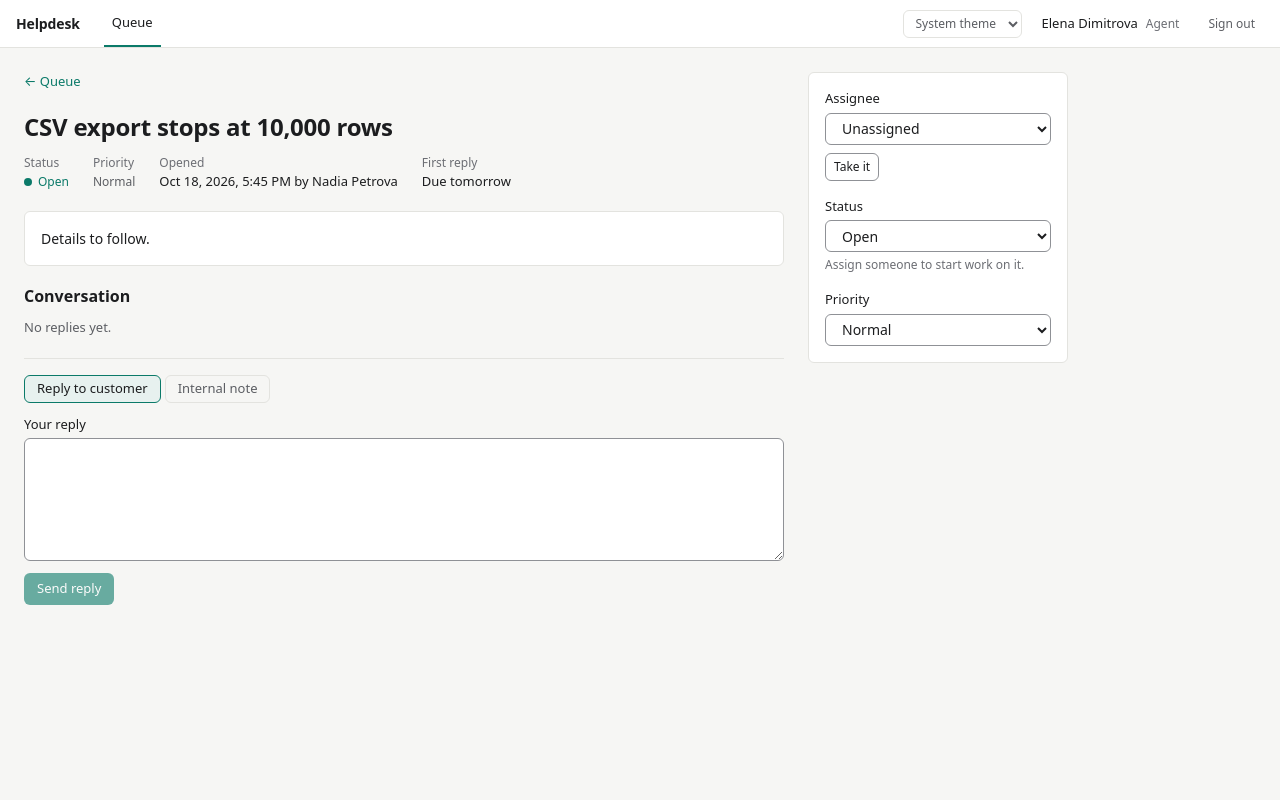
Test: a ticket, worked by staff › writes internal notes that the customer never sees
The image size is (1280, 800).
Expected: the element named "Ticket properties" is shown, [808,72,1068,362]
Click the radio button labelled "Internal note" at (218, 388), box [165,374,270,402]
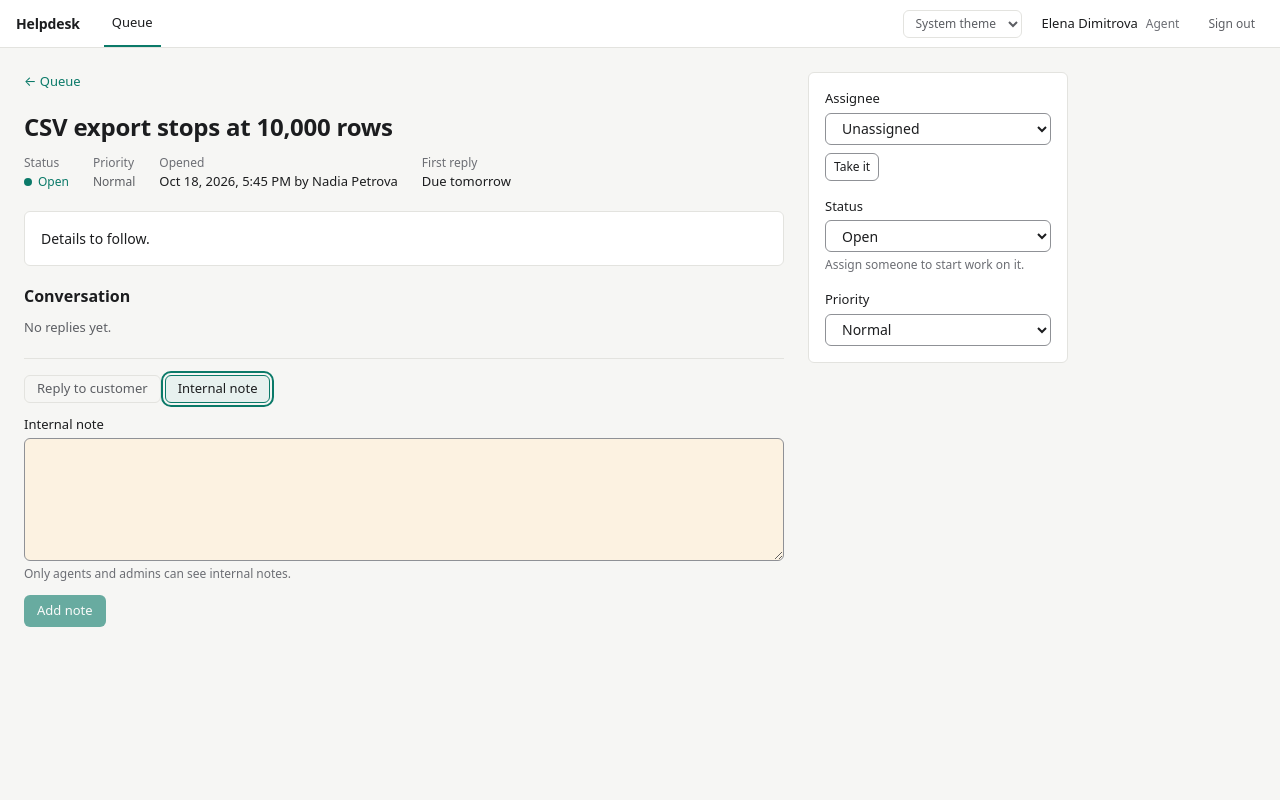
Type "Reproduced on staging, limit is in the exporter." into the text box labelled "Internal note" at (404, 500), box [24,438,784,561]
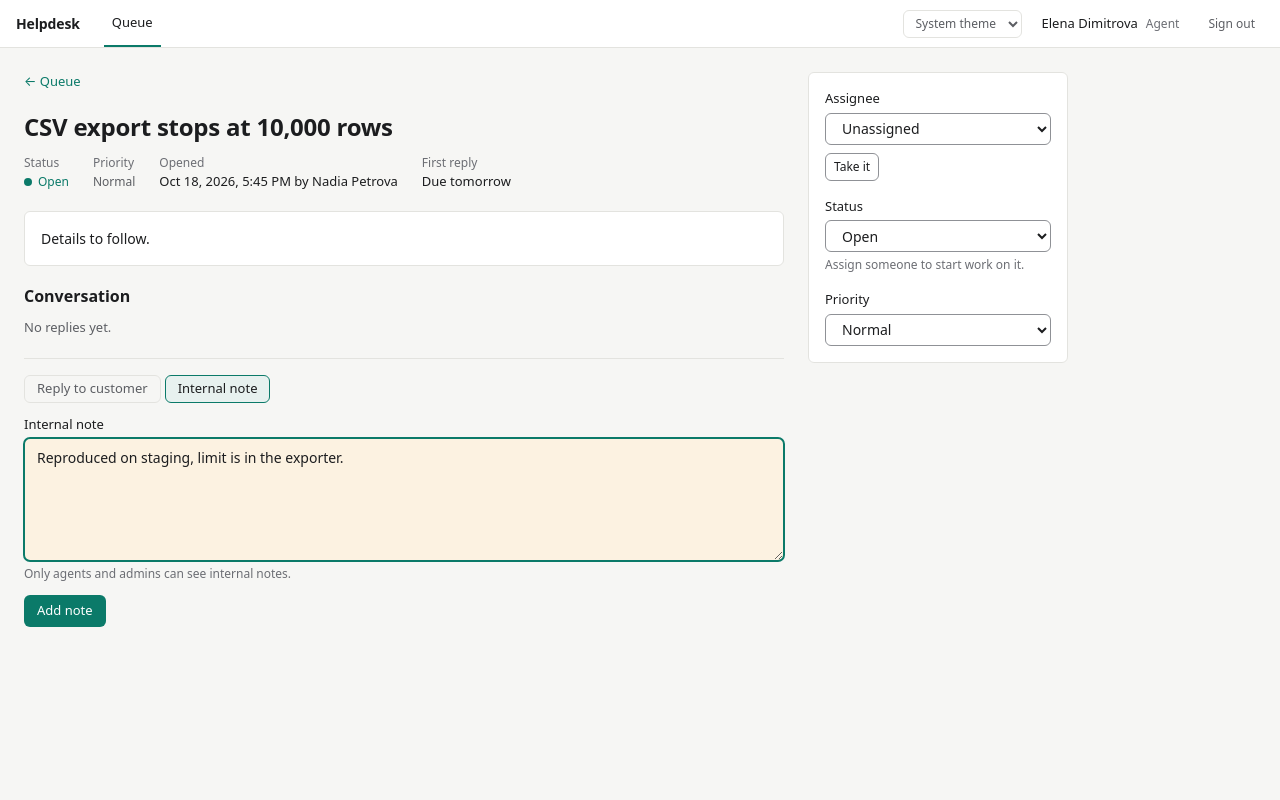
Click the button "Add note" at (65, 611), box [24,595,106,627]
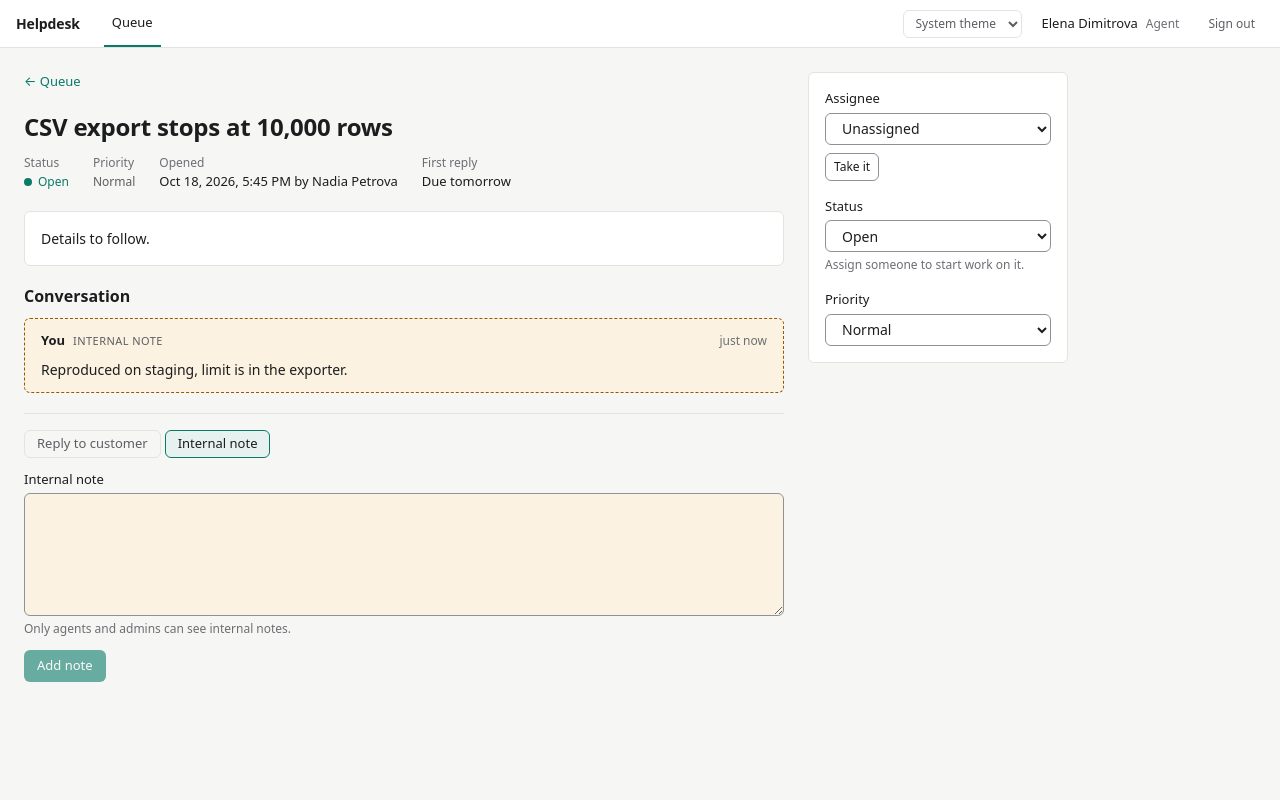
Expected: the text "Internal note" is shown, [73,333,163,350]
